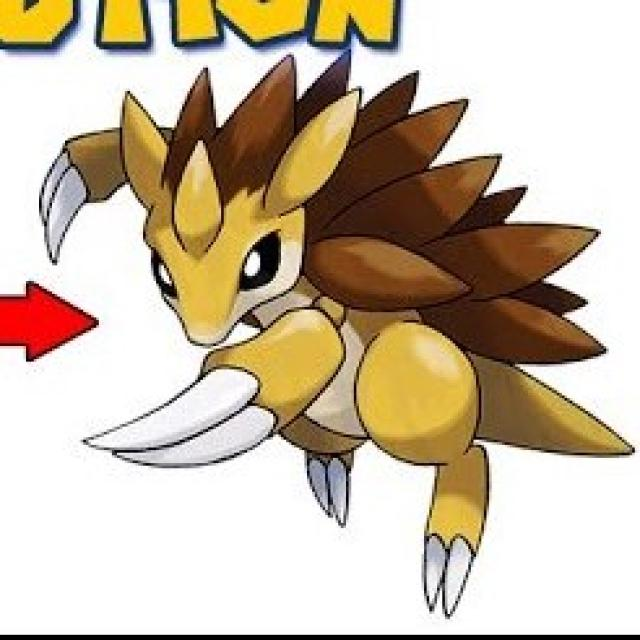Sandslash: (102, 66, 582, 528)
